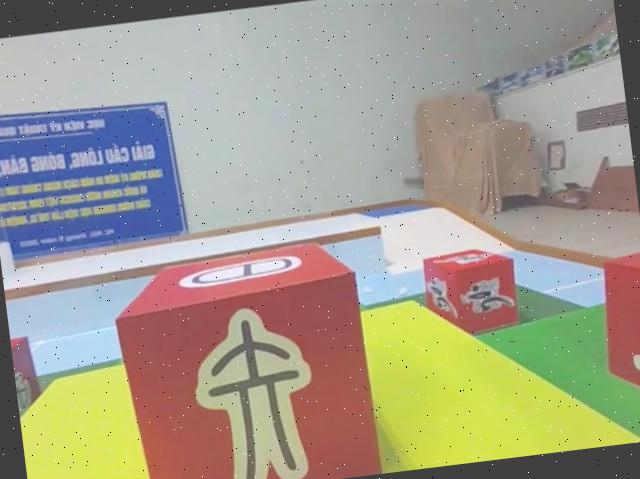R1: (421, 241, 523, 341)
R2 Fake: (109, 233, 379, 479)
R2 Real: (597, 247, 640, 438), (9, 332, 46, 430)
